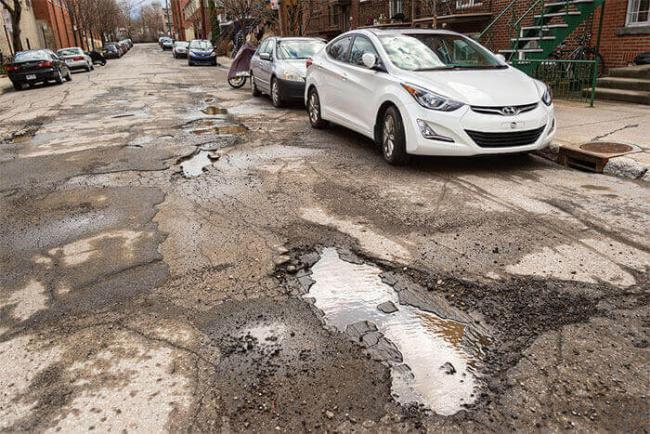pothole: (270, 206, 497, 412), (175, 99, 239, 138)
